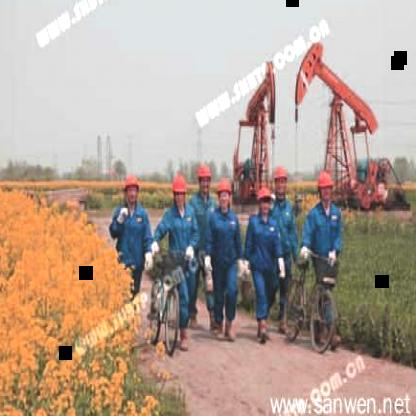helmet: (170, 170, 190, 208), (196, 154, 212, 196), (315, 170, 334, 204), (254, 185, 272, 217), (218, 173, 232, 211), (123, 172, 139, 205), (272, 164, 288, 193)
